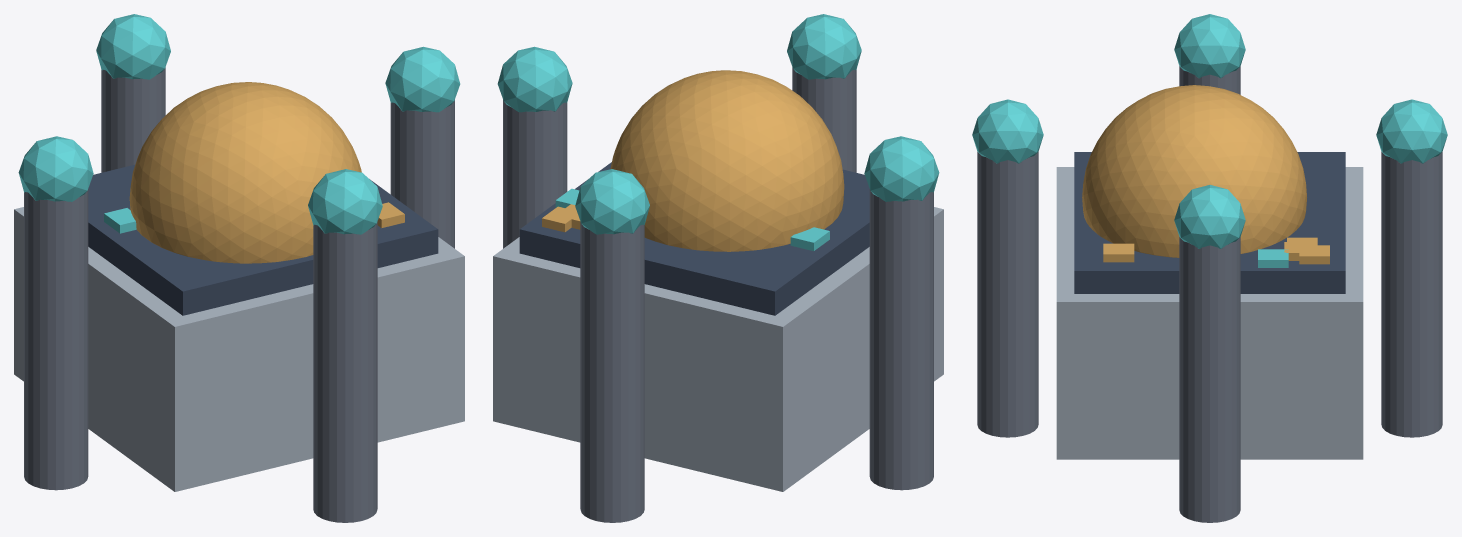
The model's file is terminal-mercante-remoto.glb.
The picture shows the model from 3 angles, left to right: view 1: azimuth 30°, elevation 25°; view 2: azimuth 150°, elevation 25°; view 3: azimuth 270°, elevation 25°; orthographic projection. The views are drawn at different scales.
Visible parts, largest first — view 1: part000, part002, part006, part008, part001, part004, part010, part005, part007, part011, part009, part015; view 2: part000, part002, part010, part008, part001, part004, part005, part011, part007, part009, part006, part015; view 3: part000, part002, part006, part010, part004, part001, part007, part011, part009, part005, part008, part014 (+1 smaller).
Part boxes in pixels (left/top/right/bottom): part000: left=14, top=207, right=464, bottom=491; part002: left=129, top=82, right=361, bottom=263; part006: left=313, top=221, right=377, bottom=522; part008: left=24, top=189, right=88, bottom=490; part001: left=88, top=164, right=438, bottom=315; part004: left=390, top=100, right=454, bottom=248; part010: left=101, top=67, right=165, bottom=172; part005: left=385, top=46, right=460, bottom=112; part007: left=308, top=169, right=382, bottom=234; part011: left=96, top=14, right=170, bottom=79; part009: left=18, top=136, right=93, bottom=201; part015: left=104, top=208, right=136, bottom=233; part000: left=493, top=207, right=943, bottom=491; part002: left=610, top=70, right=844, bottom=251; part010: left=580, top=221, right=644, bottom=522; part008: left=869, top=189, right=933, bottom=490; part001: left=519, top=162, right=869, bottom=315; part004: left=503, top=100, right=567, bottom=248; part005: left=497, top=46, right=572, bottom=112; part011: left=575, top=169, right=649, bottom=234; part007: left=787, top=14, right=861, bottom=79; part009: left=864, top=136, right=939, bottom=201; part006: left=792, top=67, right=856, bottom=172; part015: left=790, top=227, right=829, bottom=251; part000: left=1056, top=167, right=1363, bottom=459; part002: left=1082, top=85, right=1306, bottom=257; part006: left=977, top=151, right=1038, bottom=437; part010: left=1381, top=151, right=1442, bottom=437; part004: left=1179, top=237, right=1240, bottom=522; part001: left=1074, top=152, right=1345, bottom=293; part007: left=972, top=99, right=1043, bottom=163; part011: left=1376, top=99, right=1447, bottom=163; part009: left=1174, top=14, right=1245, bottom=78; part005: left=1174, top=185, right=1245, bottom=248; part008: left=1179, top=66, right=1240, bottom=94; part014: left=1103, top=243, right=1134, bottom=262.
Bounding box in the file's own units: 1.86 × 1.42 × 1.86.
